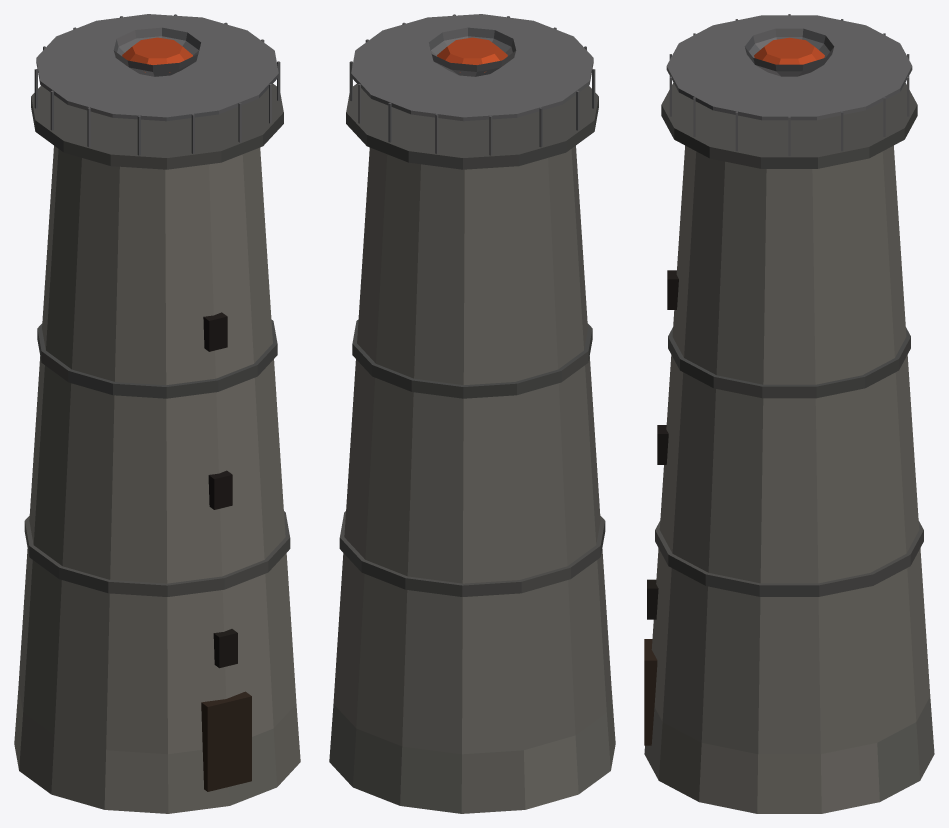
Rendered from walk_prop_lighthouse.glb.
3 views of the same model, side by side, from view 1: azimuth 30°, elevation 25°; view 2: azimuth 150°, elevation 25°; view 3: azimuth 270°, elevation 25° (orthographic).
Visible parts, largest first — view 1: walk_prop_lighthouse; view 2: walk_prop_lighthouse; view 3: walk_prop_lighthouse.
Part boxes in pixels (x1,y1,x2,y2): walk_prop_lighthouse: (14,14,300,813); walk_prop_lighthouse: (329,14,615,813); walk_prop_lighthouse: (644,14,934,813).
Size of what is drawn, in the model's own units: 6.63 by 18.3 by 6.8.
2 materials, 2 textured.
